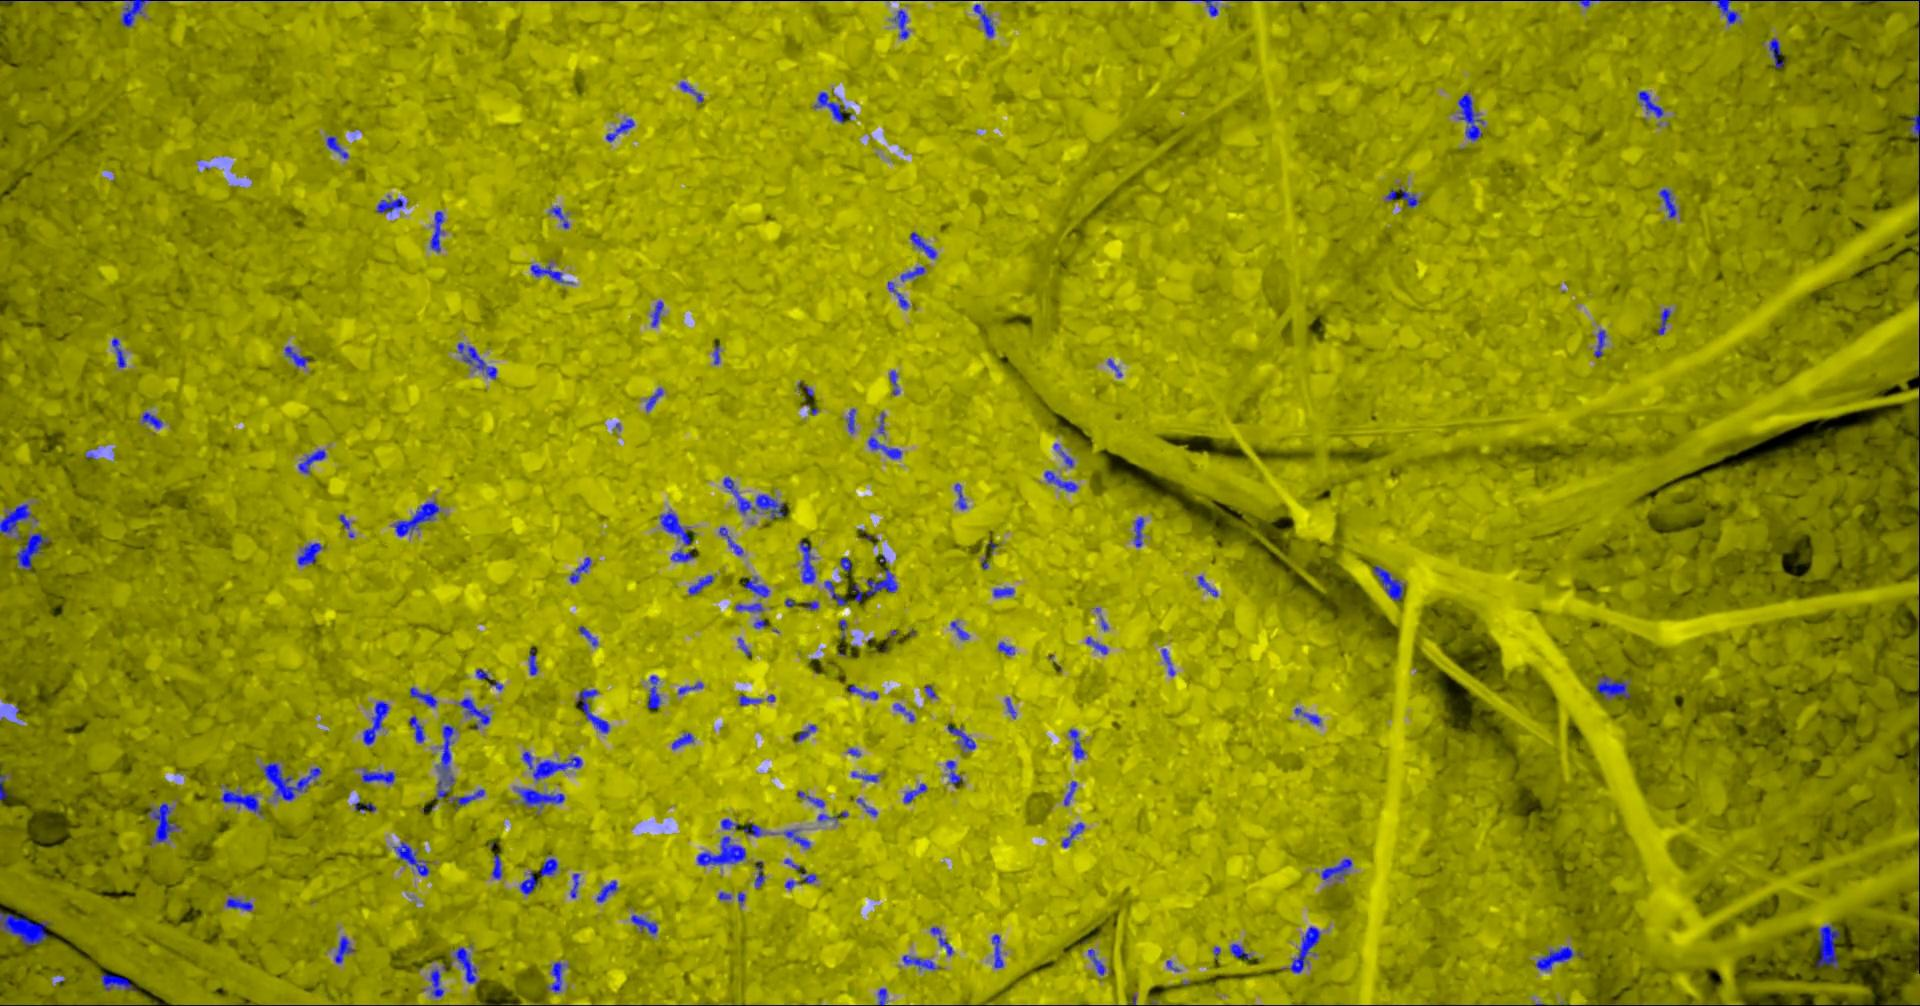ant: (723, 476, 785, 518), (262, 762, 321, 800), (0, 911, 48, 946), (392, 500, 439, 536), (522, 751, 582, 779), (433, 725, 455, 799), (852, 568, 897, 602), (575, 688, 610, 732), (1289, 926, 1321, 972), (457, 342, 497, 379), (696, 836, 745, 865), (1457, 93, 1484, 140), (15, 531, 50, 569), (147, 801, 178, 843), (392, 841, 429, 875), (221, 785, 262, 815), (362, 700, 389, 744), (1535, 946, 1582, 970), (1373, 565, 1404, 601), (659, 511, 691, 544), (1816, 923, 1839, 968), (814, 91, 844, 122), (0, 503, 30, 533), (516, 788, 564, 807), (1595, 674, 1630, 699), (453, 948, 477, 983), (458, 697, 490, 724), (530, 264, 571, 283), (867, 436, 902, 459), (1705, 0, 1738, 23), (447, 789, 484, 809), (119, 0, 149, 25), (1044, 470, 1077, 492), (909, 231, 936, 258), (717, 527, 743, 555), (947, 724, 975, 749), (973, 3, 993, 37), (1321, 857, 1351, 880), (799, 540, 815, 582), (1638, 90, 1663, 117), (604, 118, 634, 141), (930, 926, 952, 955), (100, 972, 135, 991), (298, 448, 325, 473), (783, 869, 815, 888), (297, 542, 323, 565), (1062, 822, 1084, 847), (902, 954, 940, 969), (824, 580, 847, 605), (284, 345, 310, 367), (744, 575, 770, 597), (1189, 0, 1222, 17), (888, 281, 908, 307), (430, 210, 443, 251), (569, 558, 590, 582), (1658, 188, 1676, 217), (687, 574, 712, 594), (409, 687, 436, 706), (783, 829, 810, 848), (630, 915, 657, 934), (334, 936, 353, 963), (326, 135, 348, 158), (679, 81, 703, 102), (1053, 443, 1073, 467), (945, 760, 963, 786), (1907, 105, 1919, 146), (903, 782, 926, 803), (375, 196, 403, 212), (361, 768, 394, 782), (1087, 948, 1103, 976), (893, 9, 908, 38), (1768, 38, 1783, 67), (848, 683, 877, 699), (1069, 729, 1084, 758), (1294, 708, 1321, 724), (408, 715, 424, 742), (596, 880, 616, 902), (519, 870, 537, 894), (110, 337, 124, 367), (648, 674, 660, 708), (990, 934, 1003, 967), (549, 206, 568, 227), (578, 625, 597, 647), (893, 702, 914, 721), (429, 968, 443, 997), (1084, 636, 1107, 654), (670, 732, 693, 749), (797, 791, 824, 807), (1399, 187, 1418, 207), (1197, 575, 1217, 596), (856, 798, 877, 815), (645, 387, 662, 410), (1161, 648, 1175, 674), (550, 962, 563, 991), (900, 265, 924, 281), (538, 857, 557, 876), (141, 412, 163, 428), (1594, 329, 1606, 357), (650, 300, 663, 326), (954, 483, 966, 509), (225, 897, 251, 909), (795, 724, 815, 741), (950, 621, 968, 639), (1134, 517, 1144, 547), (670, 549, 695, 561), (1063, 781, 1076, 805), (1657, 307, 1669, 334), (1230, 942, 1248, 959), (677, 682, 702, 694), (742, 822, 762, 836), (754, 860, 764, 888), (851, 771, 877, 781), (889, 370, 899, 394), (491, 854, 502, 878), (569, 873, 579, 897), (528, 648, 537, 674), (846, 408, 855, 433), (997, 641, 1015, 654), (739, 695, 761, 705), (0, 772, 8, 800), (735, 603, 762, 611), (720, 818, 738, 829), (993, 587, 1013, 596), (354, 801, 375, 810), (839, 556, 850, 572), (877, 988, 886, 1005), (712, 343, 719, 365)
